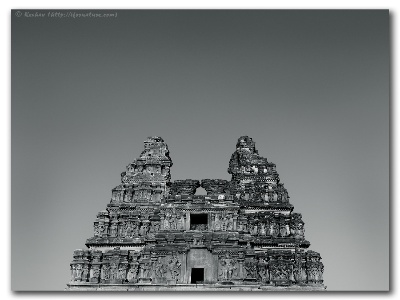gopura: (69, 113, 338, 287)
